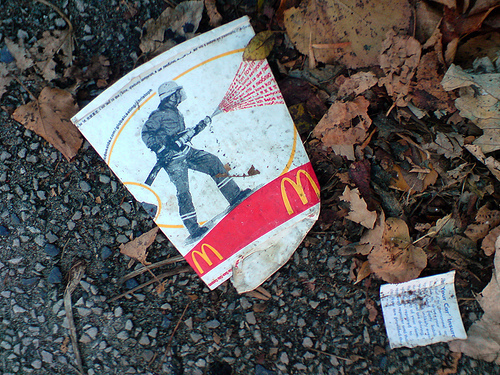litter: (69, 13, 322, 294), (378, 270, 469, 349)
